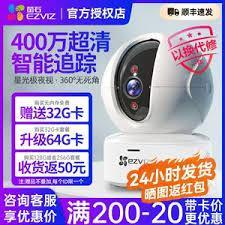maru: (98, 34, 214, 136)
